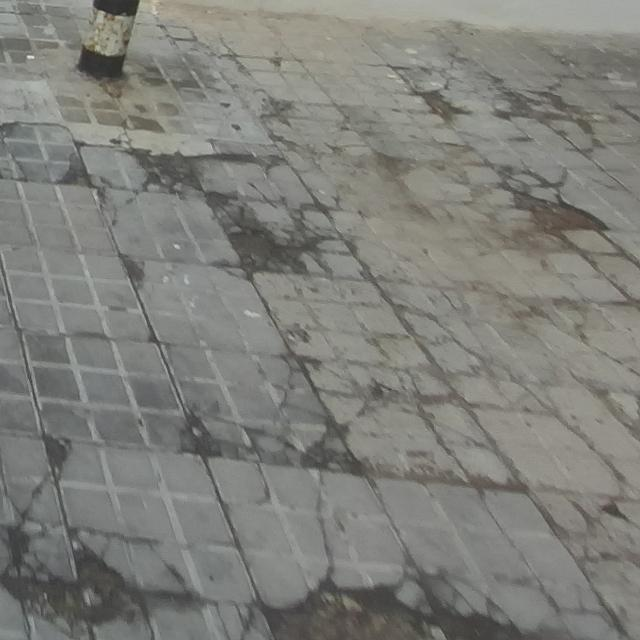calcada_quebrada: (385, 290, 520, 384), (412, 399, 526, 488), (523, 295, 640, 380), (318, 356, 384, 435), (253, 347, 306, 421), (226, 421, 299, 470), (145, 528, 196, 596), (553, 490, 597, 568), (311, 478, 344, 563), (0, 460, 42, 523), (0, 137, 34, 183), (435, 47, 465, 87), (28, 114, 75, 133)
